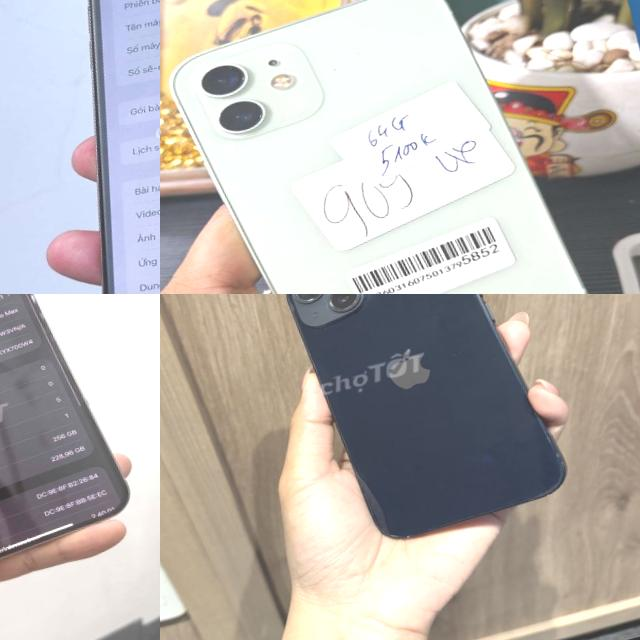gen_12_13: (160, 0, 616, 294), (274, 294, 578, 553)
gen_16: (0, 294, 141, 590)
gen_x_xs: (0, 0, 160, 294)
